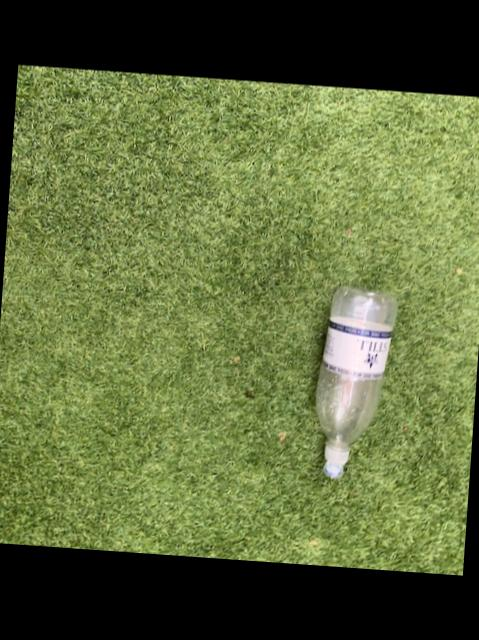plastic: (316, 285, 396, 475)
